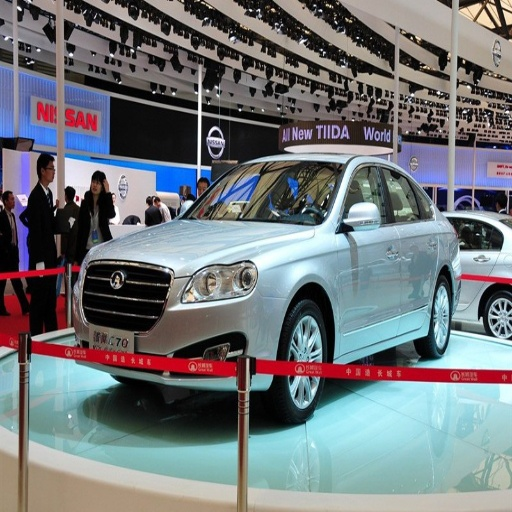back_left_door: (380, 162, 439, 328)
front_bumper: (62, 254, 288, 391)
front_glass: (183, 161, 344, 225)
front_left_door: (337, 160, 399, 349)
trunk: (449, 234, 488, 303)
